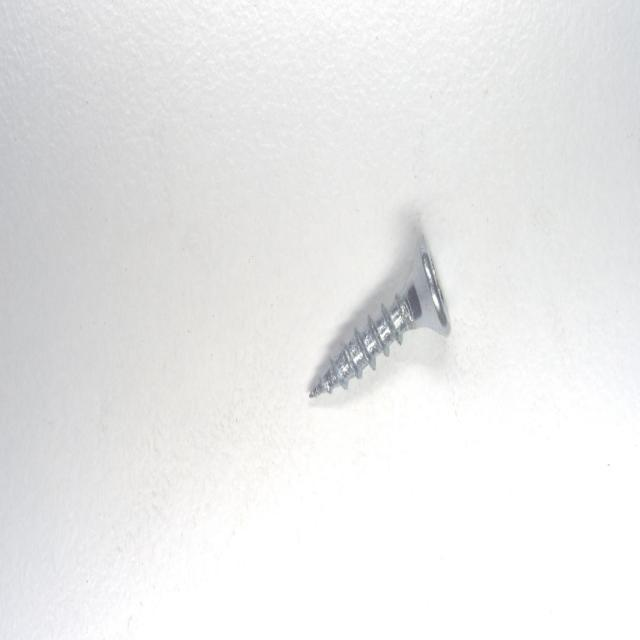Screw: (310, 234, 451, 396)
